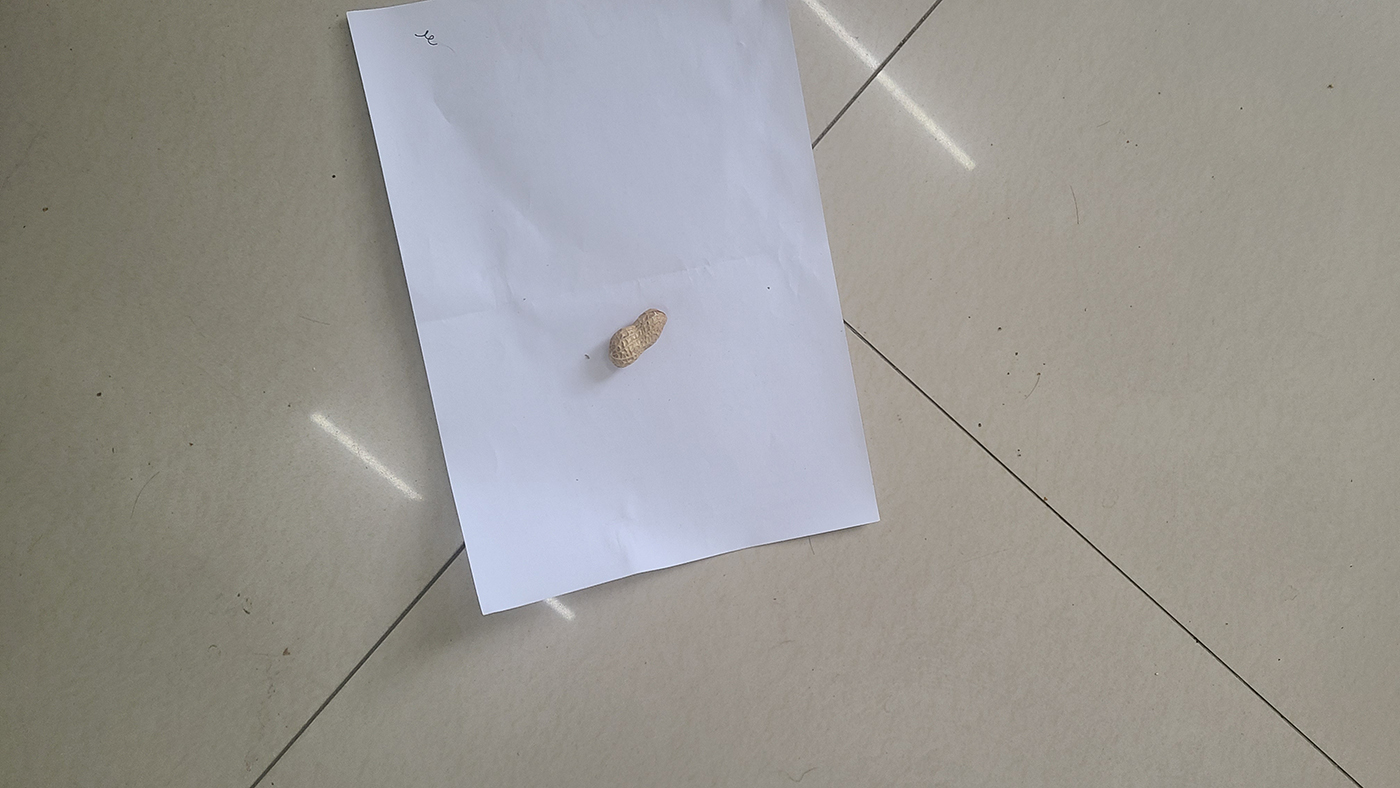h: (608, 309, 667, 368)
